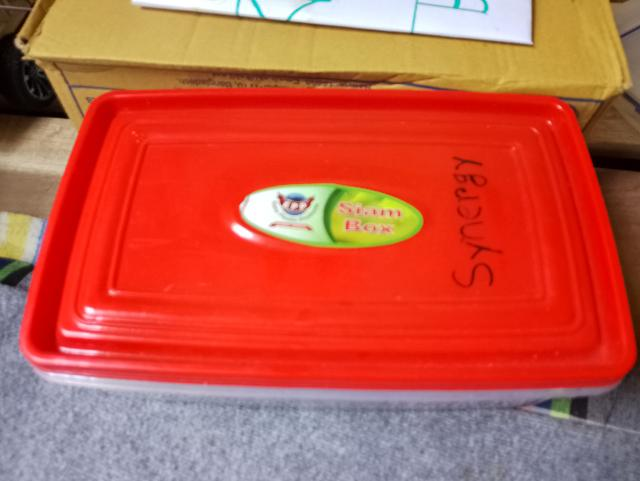hardplastic: (16, 76, 640, 415)
